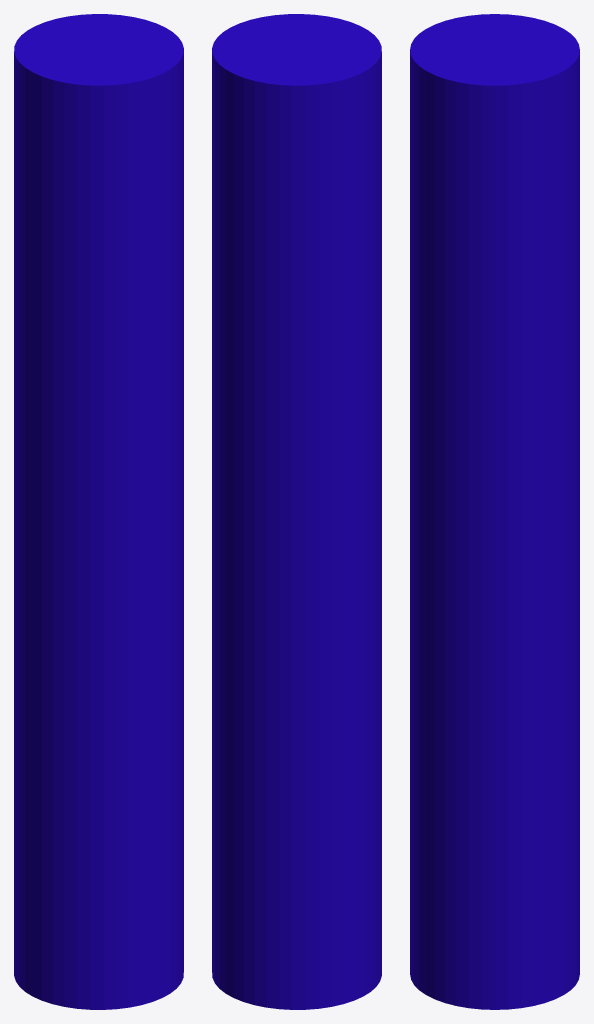
Rendered from p4_blue.dae.
3 renders of one model, left to right at view 1: azimuth 30°, elevation 25°; view 2: azimuth 150°, elevation 25°; view 3: azimuth 270°, elevation 25°, orthographic.
Parts seen in each view (by area): view 1: Palo11000; view 2: Palo11000; view 3: Palo11000.
Boxes of the visible parts, x1,y1,x2,y2 form: Palo11000: (14,14,183,1009); Palo11000: (212,14,381,1009); Palo11000: (410,14,579,1009).
Size of the model in its own units: 0.5 by 0.5 by 3.
